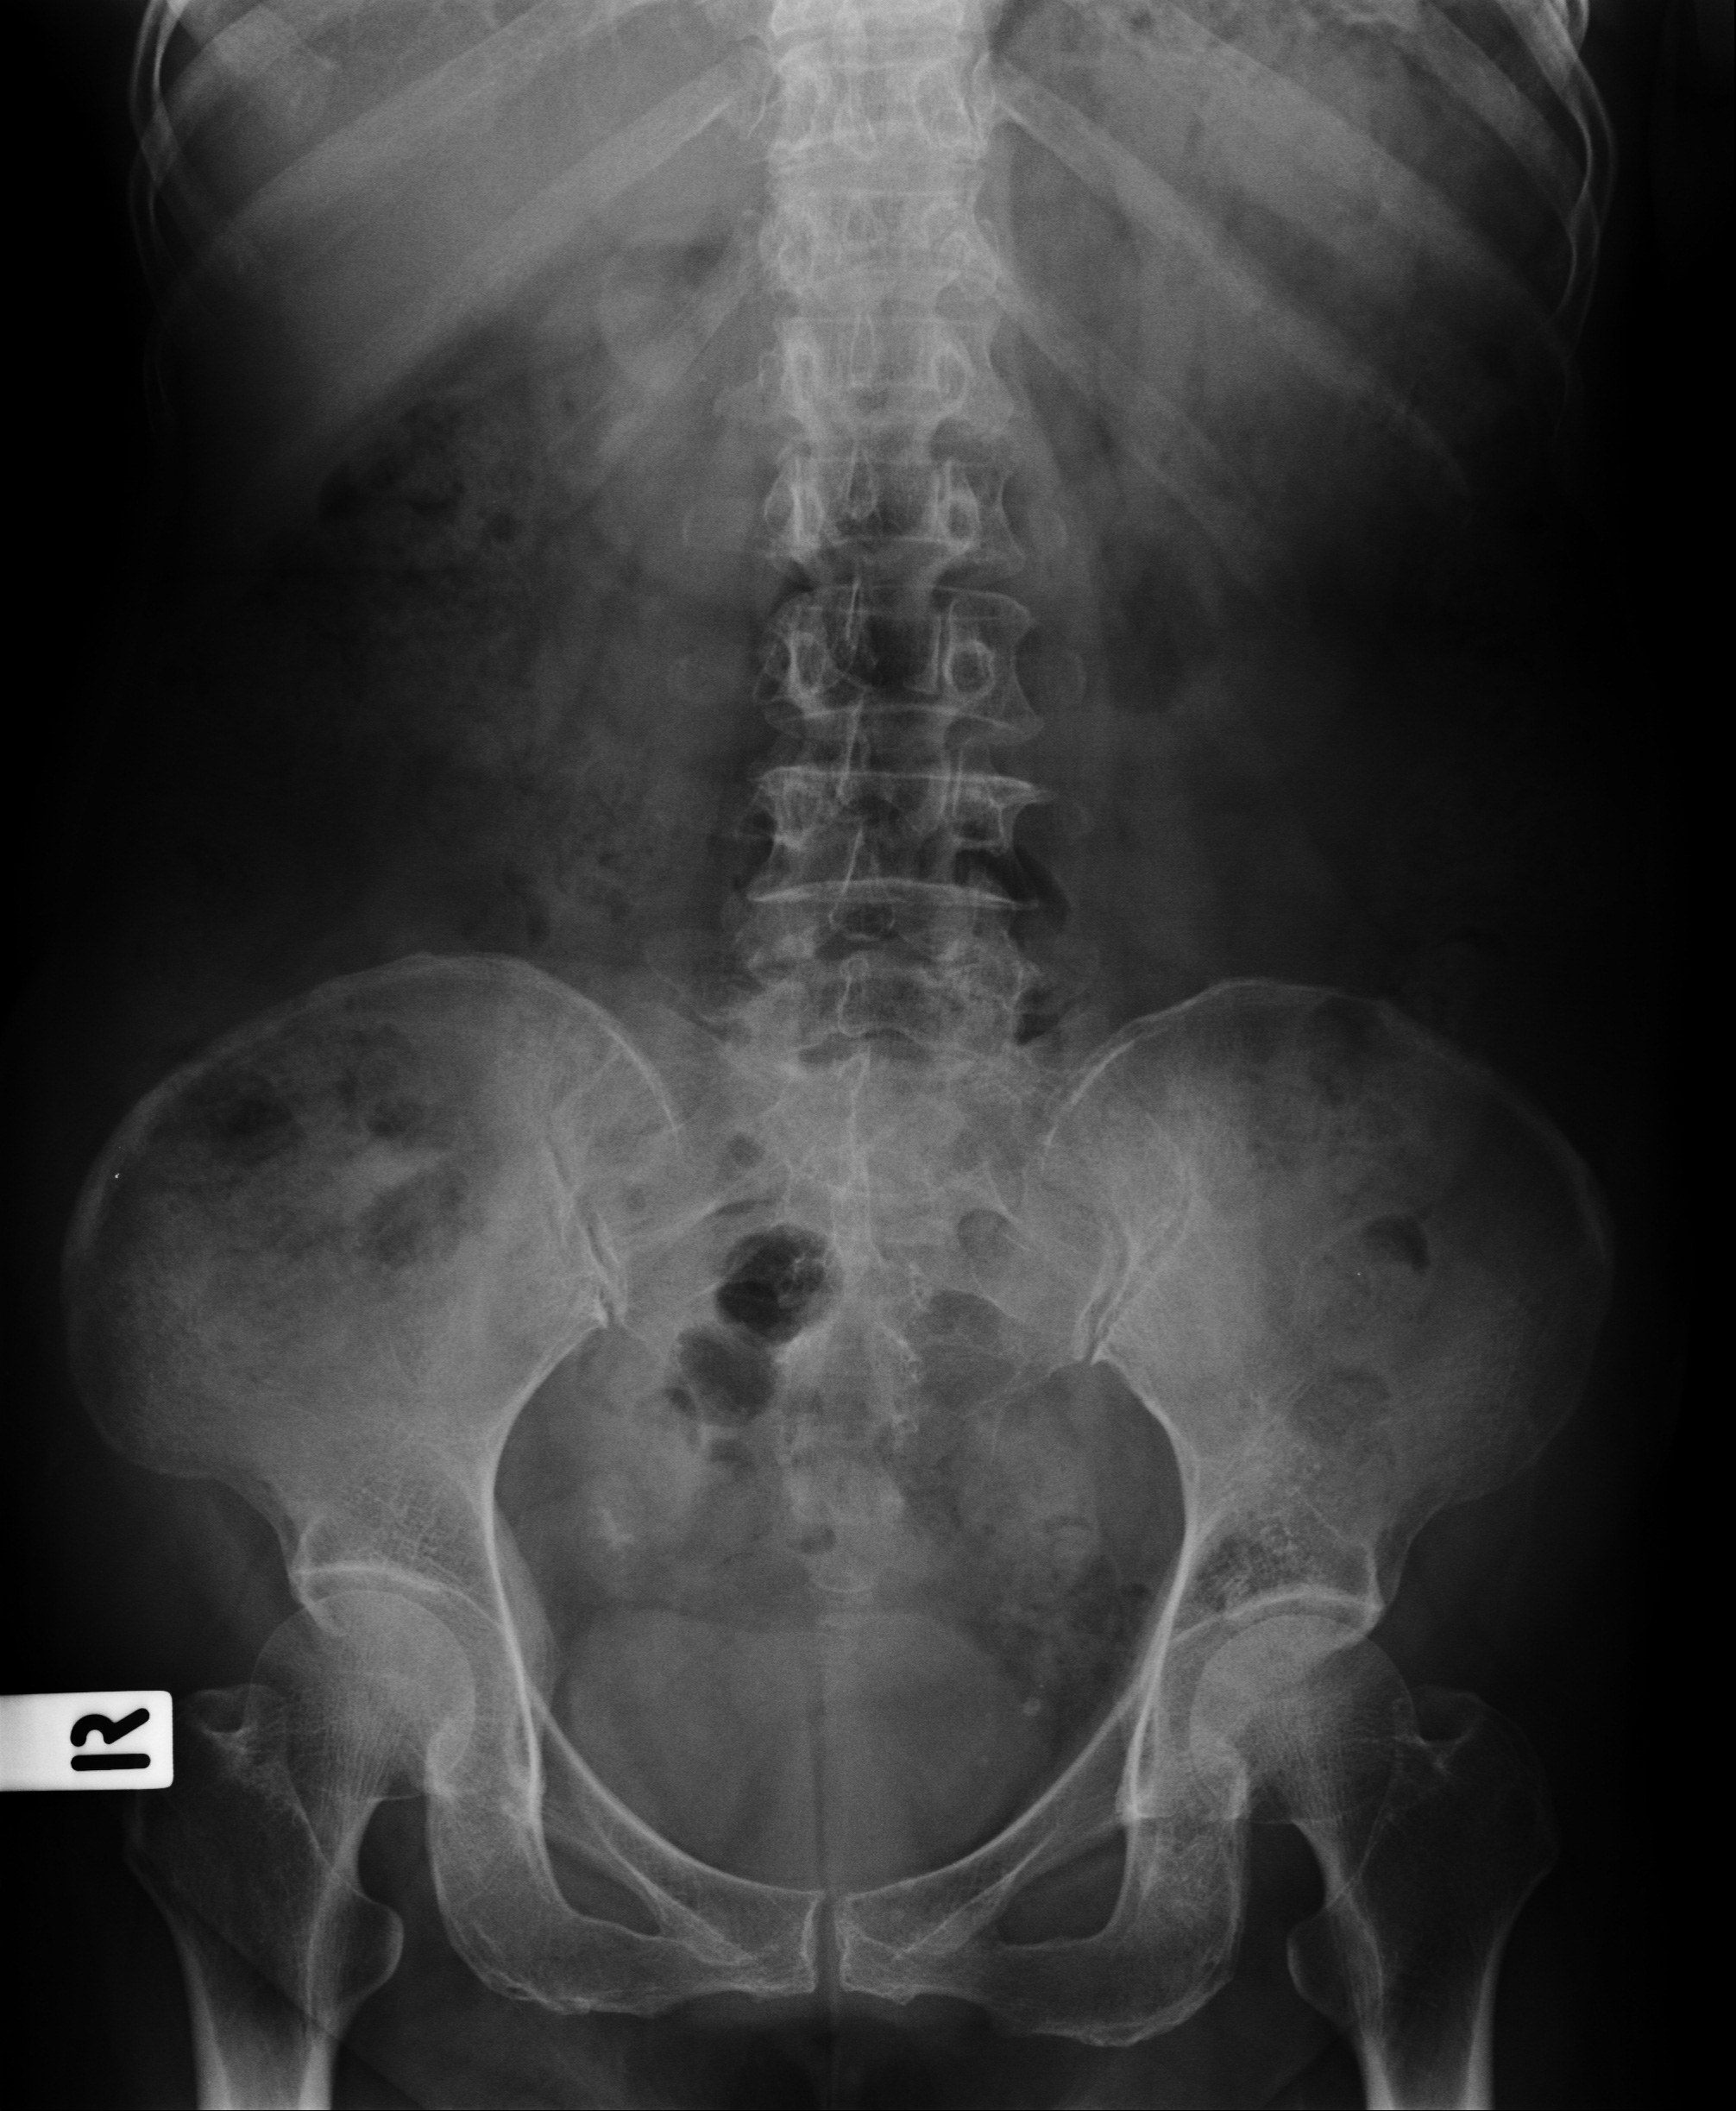lumbar scoliosis: (742, 28, 1049, 1245)
